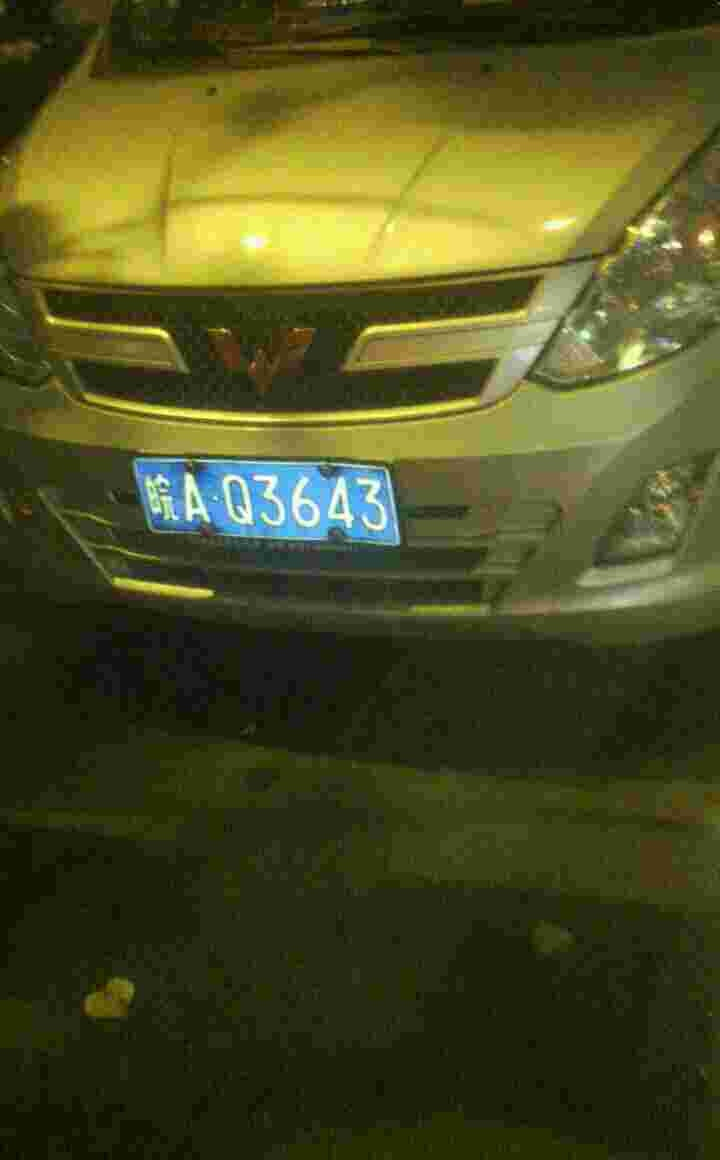license_plate: (129, 454, 391, 536)
